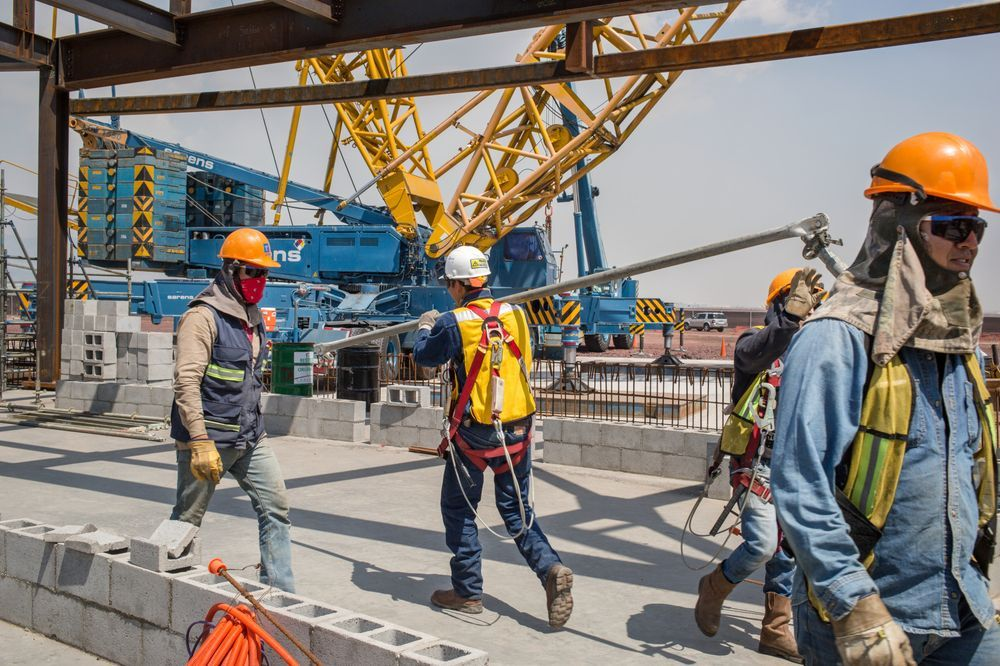hardhat: (856, 134, 994, 226), (212, 221, 287, 275), (438, 249, 493, 282), (765, 271, 814, 296)
person: (770, 121, 995, 658), (390, 239, 587, 635), (156, 213, 333, 624), (687, 259, 820, 654)
safety_vest: (832, 316, 988, 567), (434, 305, 548, 455), (171, 300, 271, 449)
